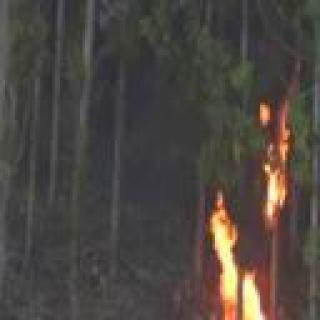fire: (170, 216, 312, 320), (255, 105, 307, 214)
